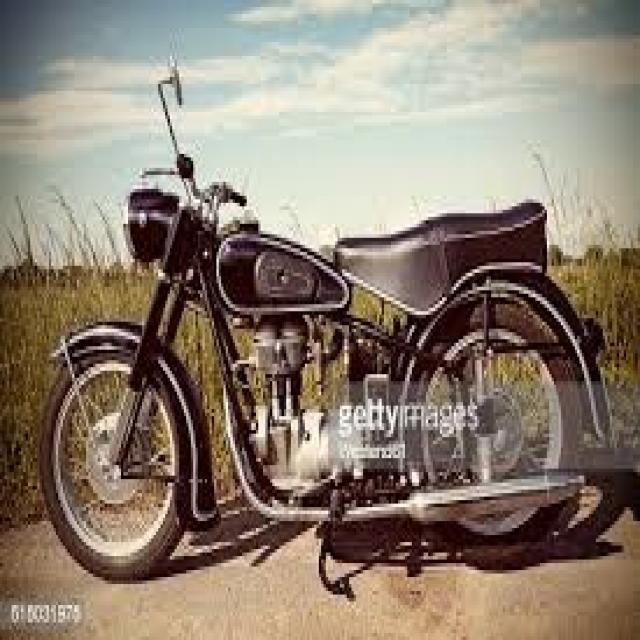bike: (31, 50, 625, 591)
